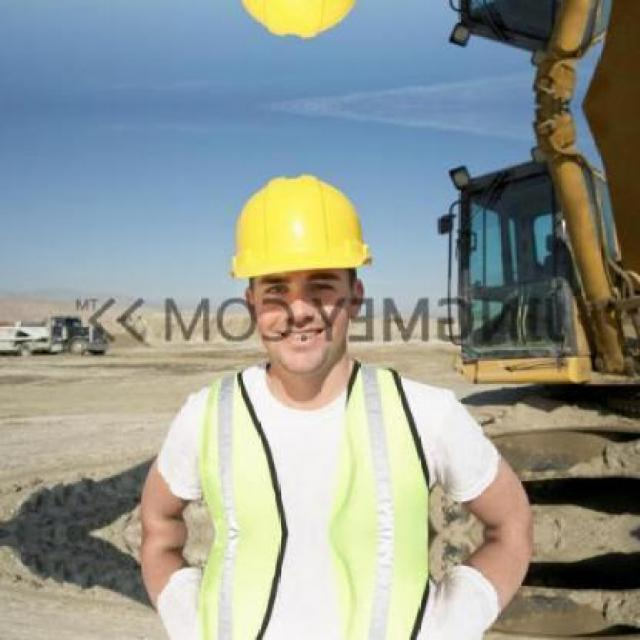Reflective-Jacket: (181, 359, 457, 637)
Safety-Helmet: (222, 166, 378, 290)
